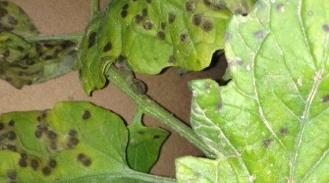Tomato Septoria leaf spot: (173, 0, 329, 183), (0, 98, 166, 183), (0, 0, 81, 105)
